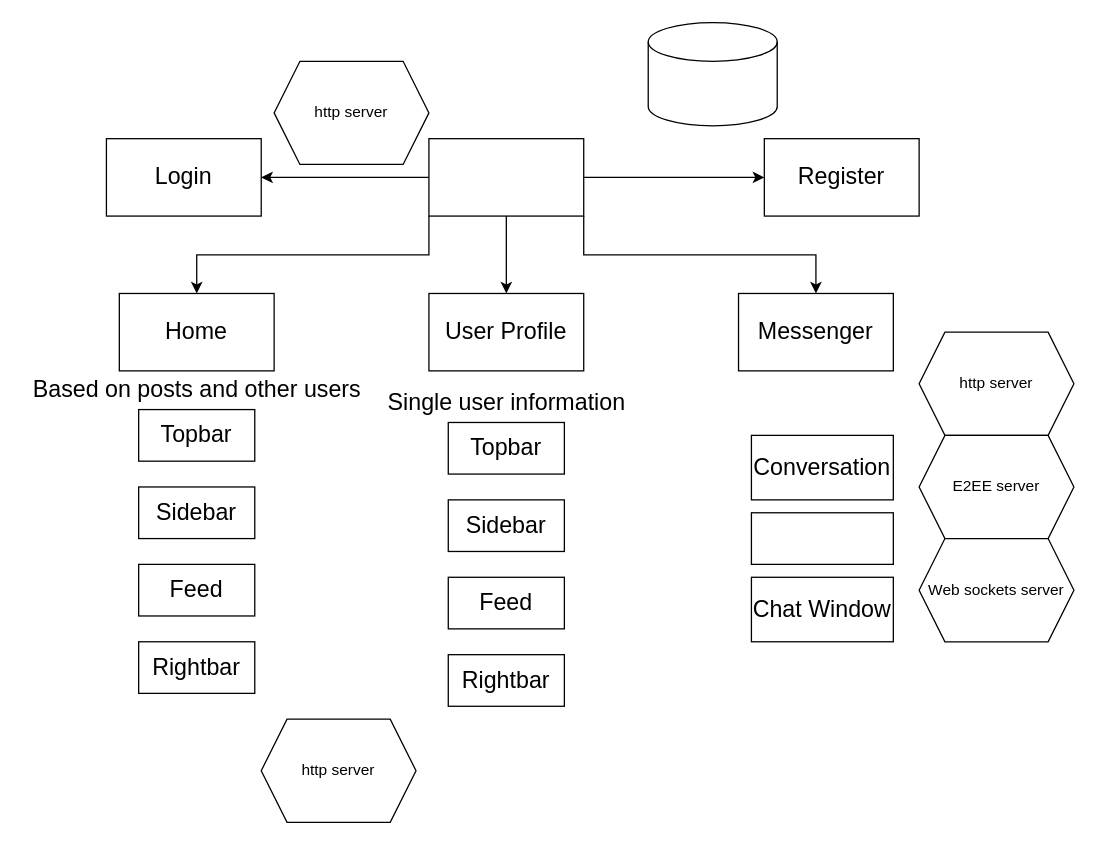
Image size: 1097x845. Some labels were removed from this diagram. The shapes that lost their labels are listed below. From the top down, each one's box as (x1, y1, x2, y2) in pixels, then its label:
(647, 21, 777, 126): Auth context
(428, 137, 584, 216): Web Application
(750, 511, 893, 564): Online friends
